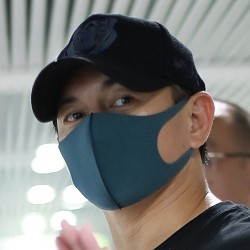mask: (49, 105, 185, 206)
